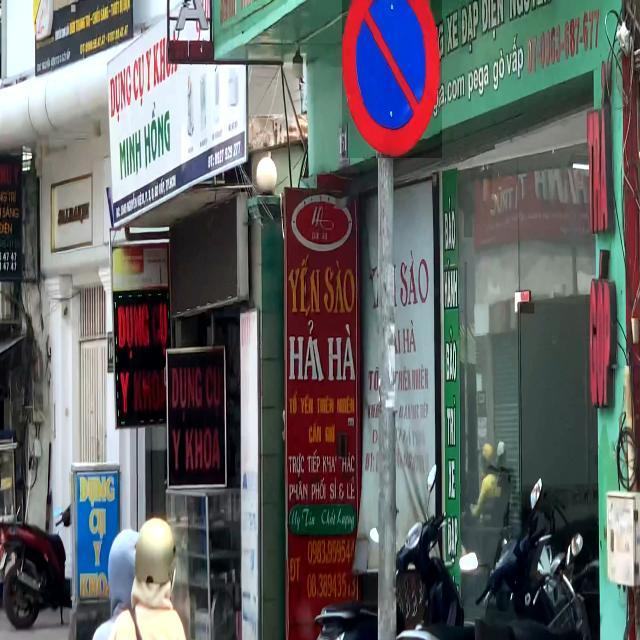P-131a: (342, 0, 442, 158)
